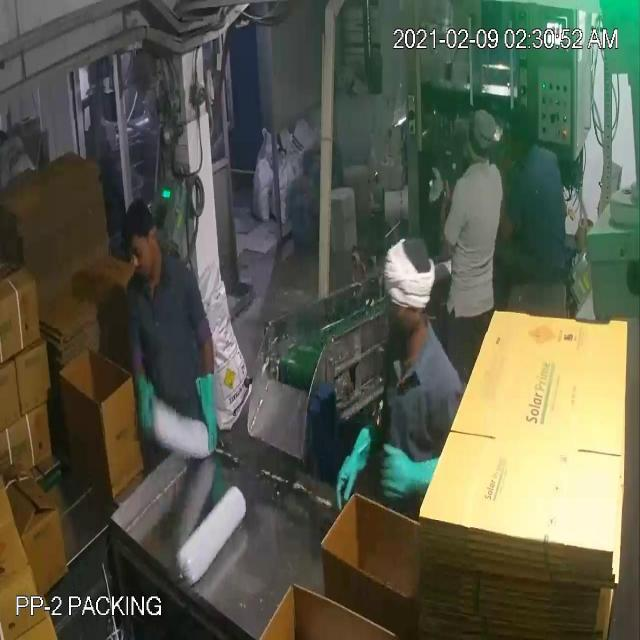Gloves: (30, 89, 445, 477)
